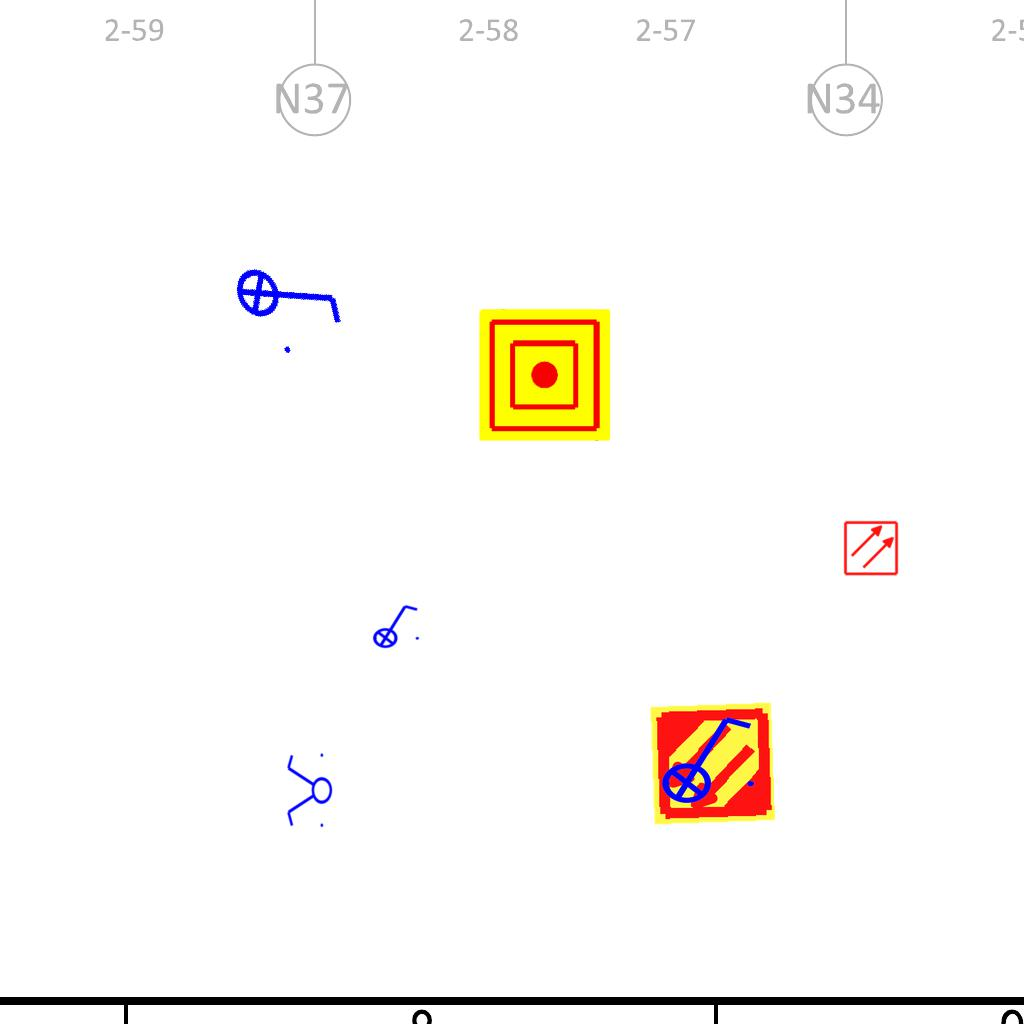ASR_Ansaugrauchmelder: (647, 698, 778, 829)
Ausschalter_beleuchtet: (220, 224, 358, 368), (648, 709, 760, 805), (366, 601, 422, 649)
NAM-Nichtautomatischer_Melder: (479, 309, 611, 441)
RMO_Rauchmelder_optischer: (843, 520, 899, 576)
Serienschalter: (285, 749, 333, 833)
